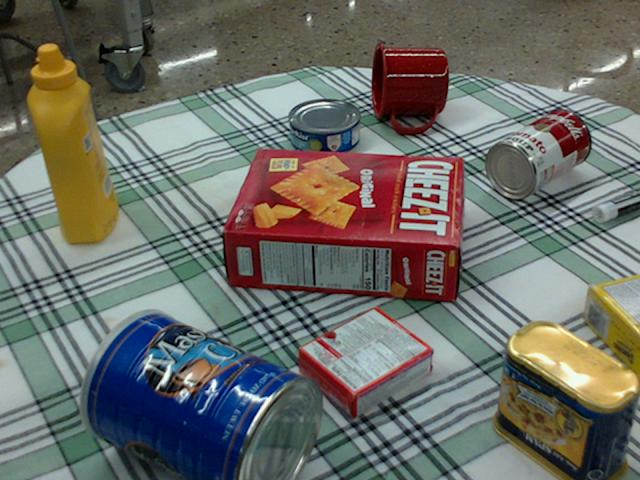cracker_box: (221, 146, 463, 302)
gelatin_box: (297, 307, 434, 414)
large_marker: (592, 190, 639, 220)
master_chef_can: (77, 311, 321, 479)
mug: (369, 41, 448, 132)
mustard_bottle: (27, 44, 117, 243)
potted_meat_can: (492, 317, 639, 479)
sugar_box: (585, 276, 639, 382)
tomato_soup_can: (485, 108, 590, 197)
tuna_fish_can: (287, 98, 359, 154)
